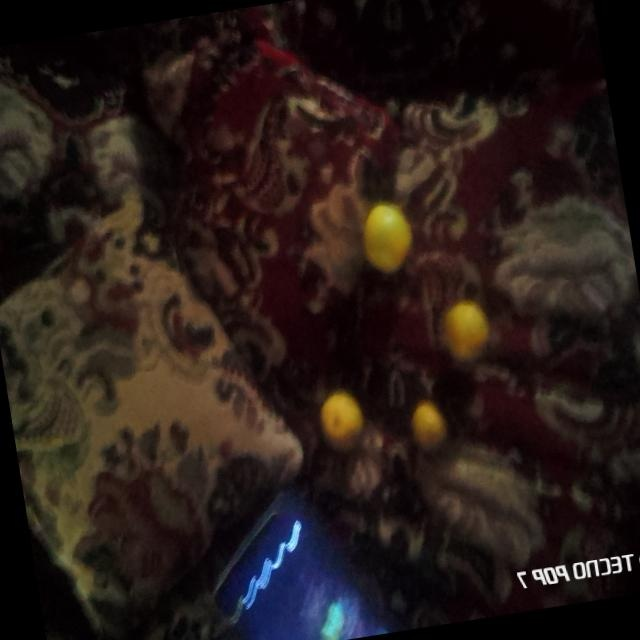agrume: (356, 183, 428, 285), (430, 294, 503, 369), (313, 384, 372, 468), (408, 394, 456, 463)
